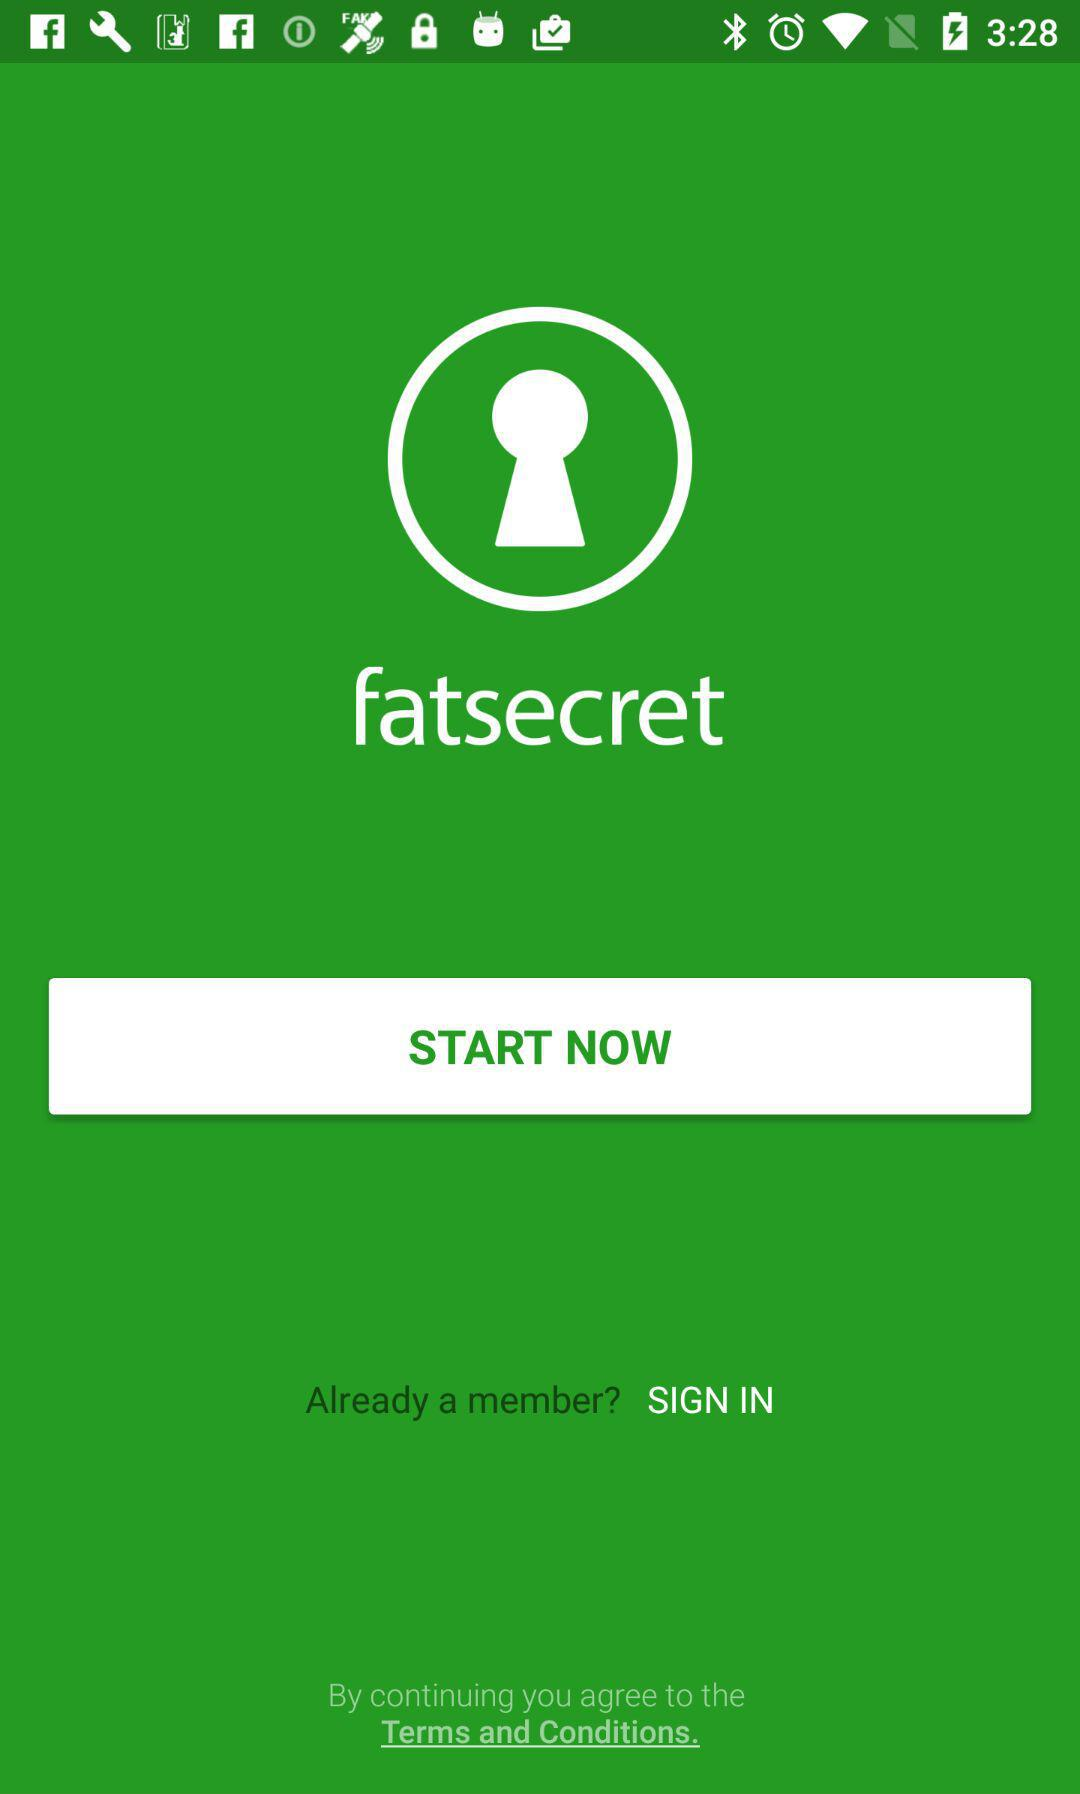Image: (387, 306, 694, 615)
Text: (354, 664, 726, 748), (329, 1681, 746, 1749), (305, 1383, 621, 1422), (648, 1385, 774, 1416)
TextButton: (49, 978, 1033, 1116)
UpperTaskBar: (1, 1, 1080, 64)
